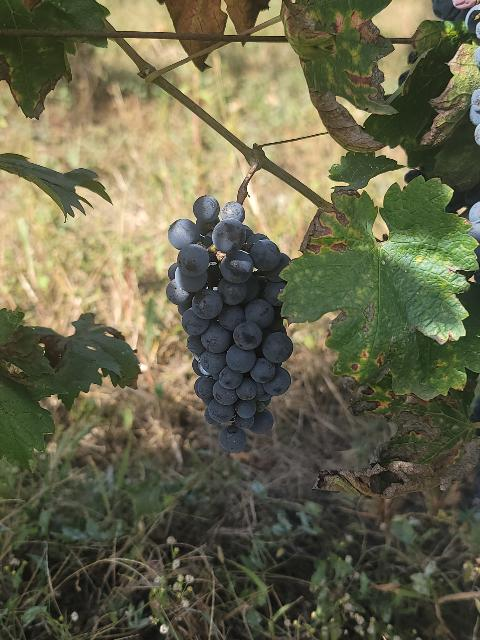grapes: (166, 196, 294, 452)
